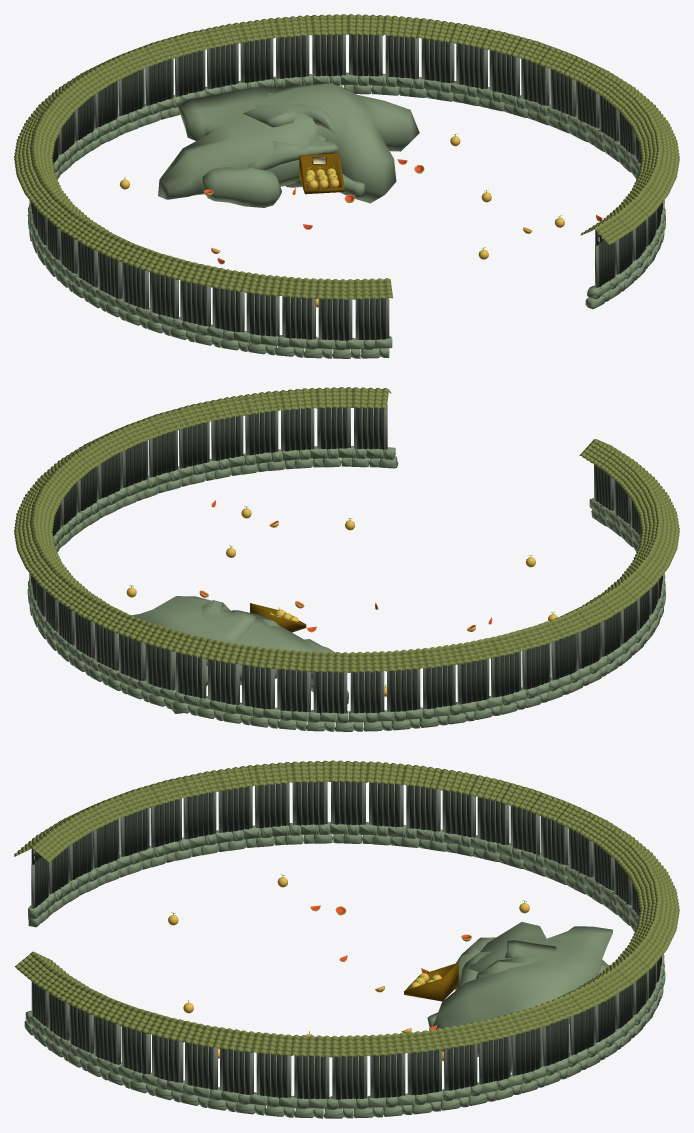
The model's file is FoodL2.fbx.
The picture shows the model from 3 angles, top to bottom: view 1: azimuth 30°, elevation 25°; view 2: azimuth 150°, elevation 25°; view 3: azimuth 270°, elevation 25°; orthographic projection. The views are drawn at different scales.
Visible parts, largest first — view 1: WallLvl2Top.004, Rocks, RockWallbase.003, MelonStand, Melons; view 2: WallLvl2Top.004, RockWallbase.003, Rocks, Melons, MelonStand; view 3: WallLvl2Top.004, RockWallbase.003, Rocks, MelonStand, Melons.
Part boxes in pixels (x1,y1,x2,y2): WallLvl2Top.004: [14, 14, 679, 342]; Rocks: [158, 83, 419, 207]; RockWallbase.003: [27, 72, 665, 358]; MelonStand: [299, 153, 344, 194]; Melons: [119, 133, 602, 307]; WallLvl2Top.004: [14, 387, 679, 714]; RockWallbase.003: [27, 446, 665, 731]; Rocks: [131, 596, 348, 713]; Melons: [126, 500, 557, 696]; MelonStand: [250, 603, 306, 632]; WallLvl2Top.004: [14, 760, 679, 1101]; RockWallbase.003: [24, 822, 665, 1118]; Rocks: [427, 922, 612, 1072]; MelonStand: [404, 962, 458, 1001]; Melons: [168, 874, 529, 1061].
Size of the model in its own units: 637 by 123 by 613.
